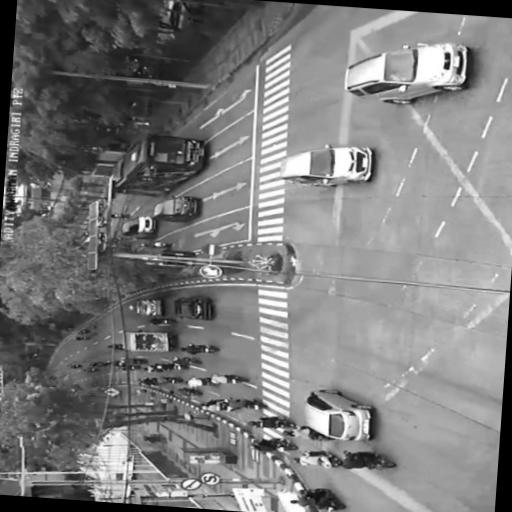bus: (112, 133, 204, 195)
car: (345, 42, 469, 104), (281, 145, 373, 186), (305, 389, 374, 440), (154, 195, 200, 222), (174, 296, 212, 320), (168, 0, 200, 28), (121, 215, 155, 238), (129, 298, 163, 315), (85, 232, 108, 250)
motorcycle: (308, 488, 346, 511), (306, 449, 341, 467), (367, 454, 397, 469), (319, 451, 341, 467), (311, 429, 334, 440), (277, 439, 298, 451), (217, 399, 237, 411), (244, 399, 266, 409), (275, 418, 295, 428), (143, 434, 164, 442), (228, 375, 248, 383), (181, 356, 201, 364), (184, 387, 202, 395), (201, 345, 219, 352), (153, 241, 172, 247), (202, 378, 218, 385), (159, 318, 176, 324), (169, 376, 183, 383), (114, 213, 130, 218), (173, 364, 188, 369), (128, 364, 141, 369), (115, 343, 124, 349), (80, 329, 91, 333), (90, 367, 99, 371), (73, 364, 82, 368), (82, 336, 91, 339)
